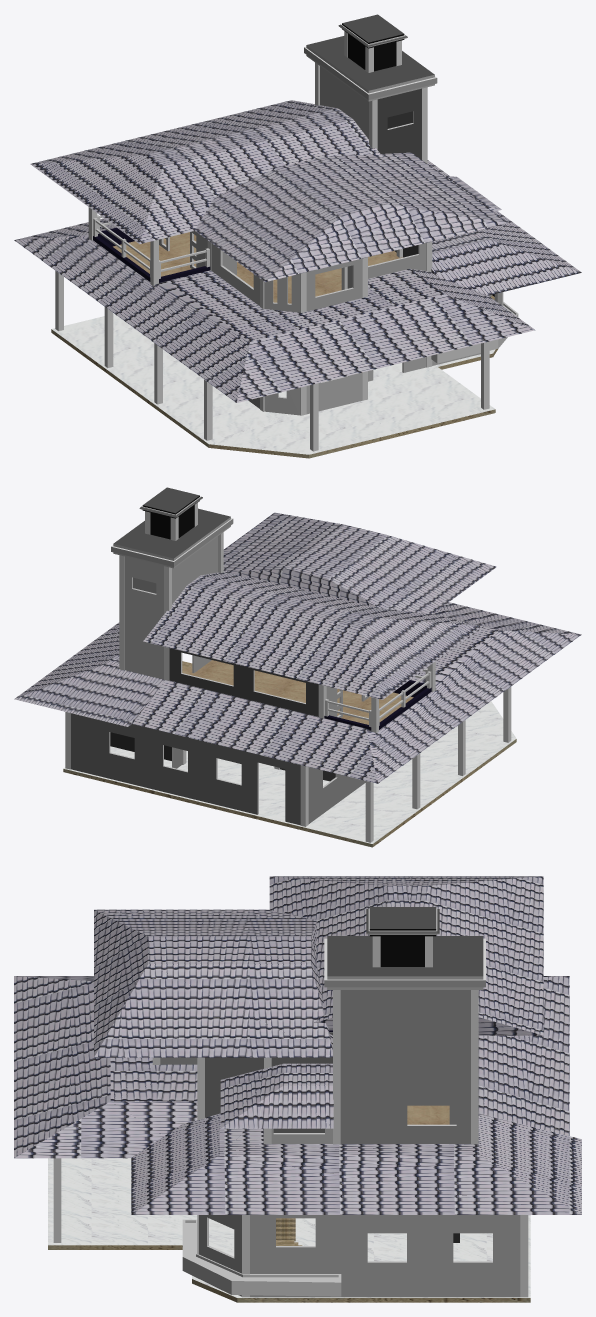
Rendered from Apocalipse Z - Casa C3 -  02 Cinza.fbx.
The picture shows the model from 3 angles, top to bottom: view 1: azimuth 30°, elevation 25°; view 2: azimuth 150°, elevation 25°; view 3: azimuth 270°, elevation 25°; orthographic projection. The views are drawn at different scales.
Visible parts, largest first — view 1: Cubo.009; view 2: Cubo.009; view 3: Cubo.009.
Boxes of the visible parts, x1,y1,x2,y2 form: Cubo.009: (14, 14, 581, 458); Cubo.009: (14, 487, 581, 847); Cubo.009: (14, 876, 581, 1302).
Bounding box in the file's own units: 3527 × 2366 × 3540.
31 materials, 10 textured.
